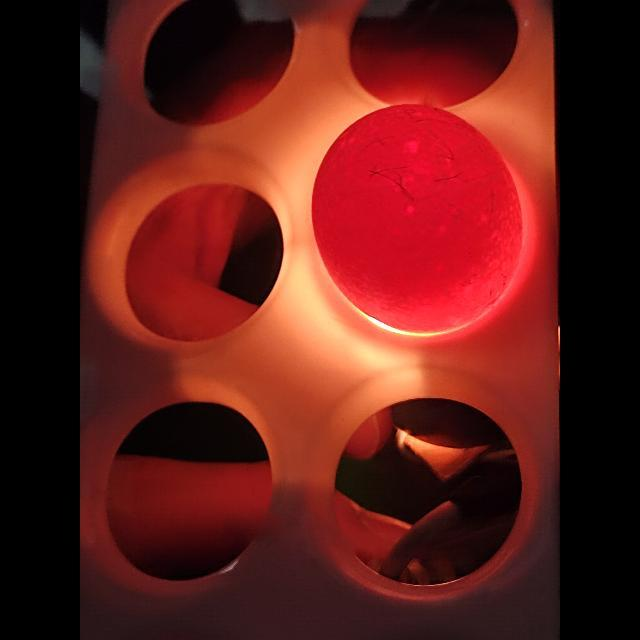Infertile: (304, 99, 528, 338)
